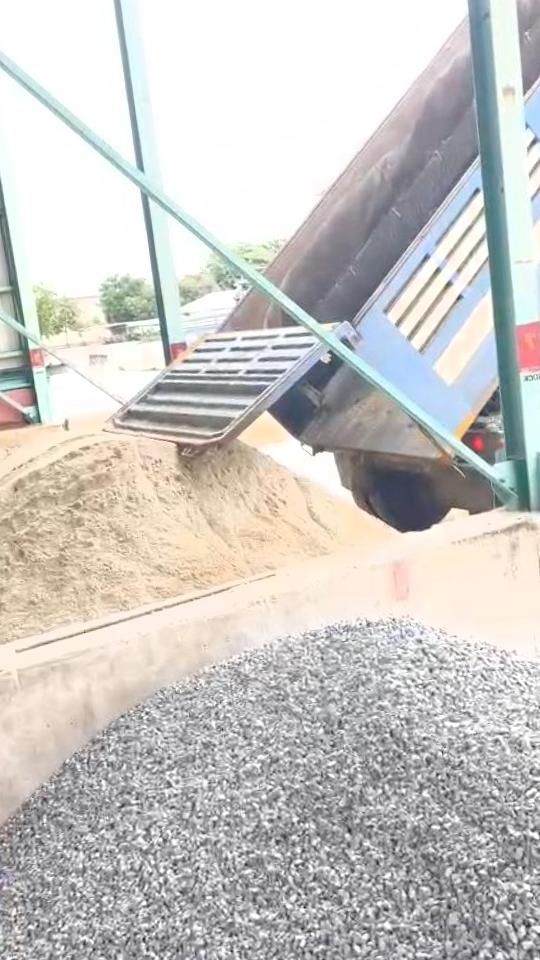gravel: (0, 619, 540, 960)
sand: (0, 432, 389, 654), (0, 431, 28, 496)
